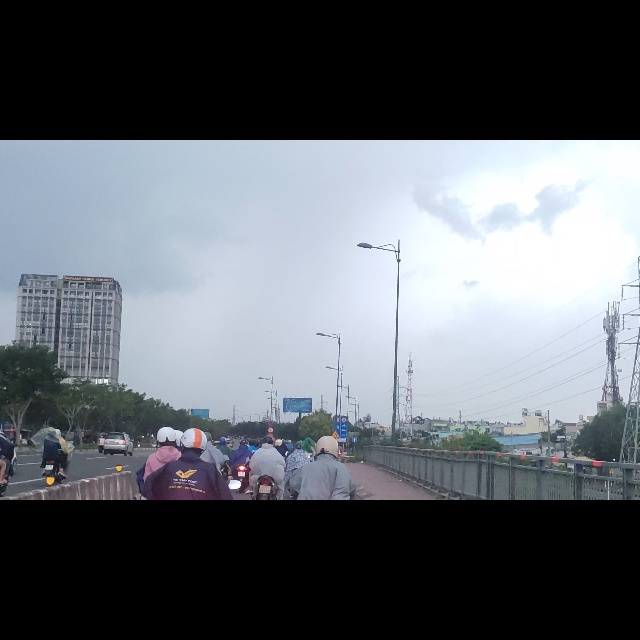bien_nguy_hiem: (331, 515, 340, 530), (341, 492, 346, 503)
